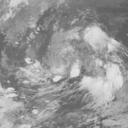cyclone: (17, 23, 117, 102)
